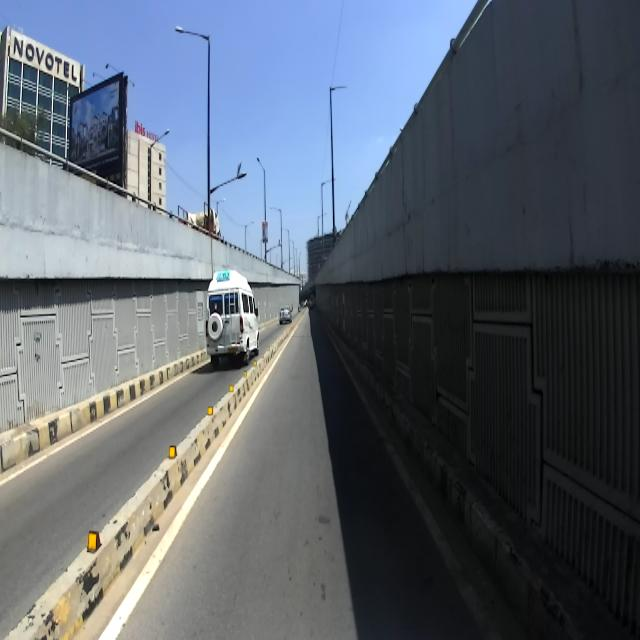truck ahead at: (202, 271, 264, 364)
